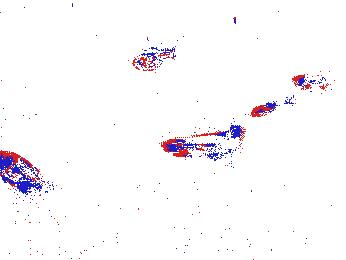X-ray fish: (20, 179, 79, 219), (1, 150, 46, 194)
red belly glassfish: (132, 43, 182, 72), (251, 94, 295, 118)
redtail glassfish: (161, 122, 249, 160), (291, 64, 346, 98)
